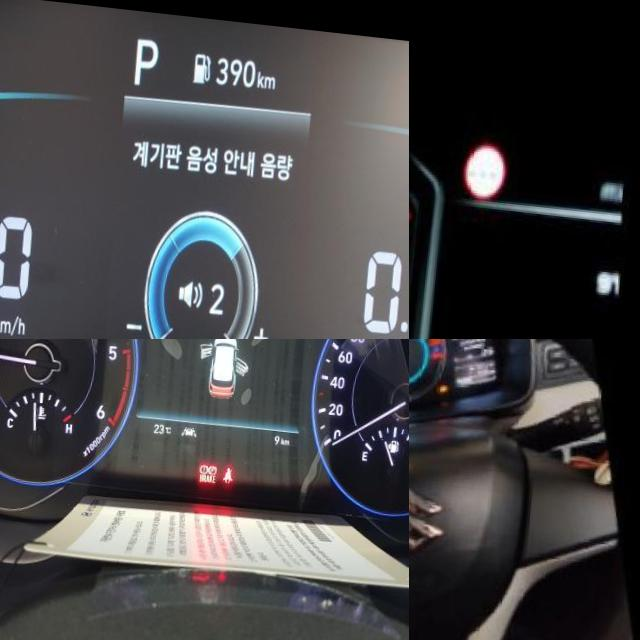High Engine Coolant Temperature: (437, 340, 447, 348)
